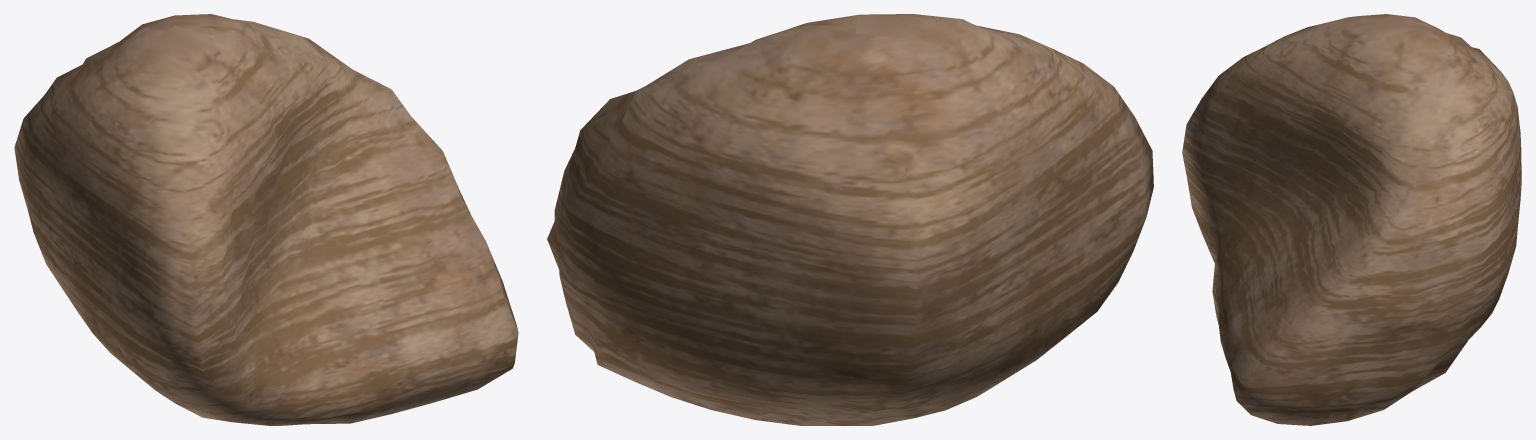
File: Temple Rock 3.fbx
3 views of the same model, side by side, from view 1: azimuth 30°, elevation 25°; view 2: azimuth 150°, elevation 25°; view 3: azimuth 270°, elevation 25° (orthographic). The views are drawn at different scales.
Visible parts, largest first — view 1: rock.015; view 2: rock.015; view 3: rock.015.
Boxes of the visible parts, box(x1,y1,x2,y2) form: rock.015: box(14, 14, 518, 425); rock.015: box(547, 14, 1153, 425); rock.015: box(1182, 14, 1521, 425).
Size of the model in its own units: 104 by 90.34 by 91.83.
1 material, 1 textured.
